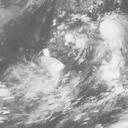cyclone: (36, 55, 67, 83), (93, 17, 124, 45)
